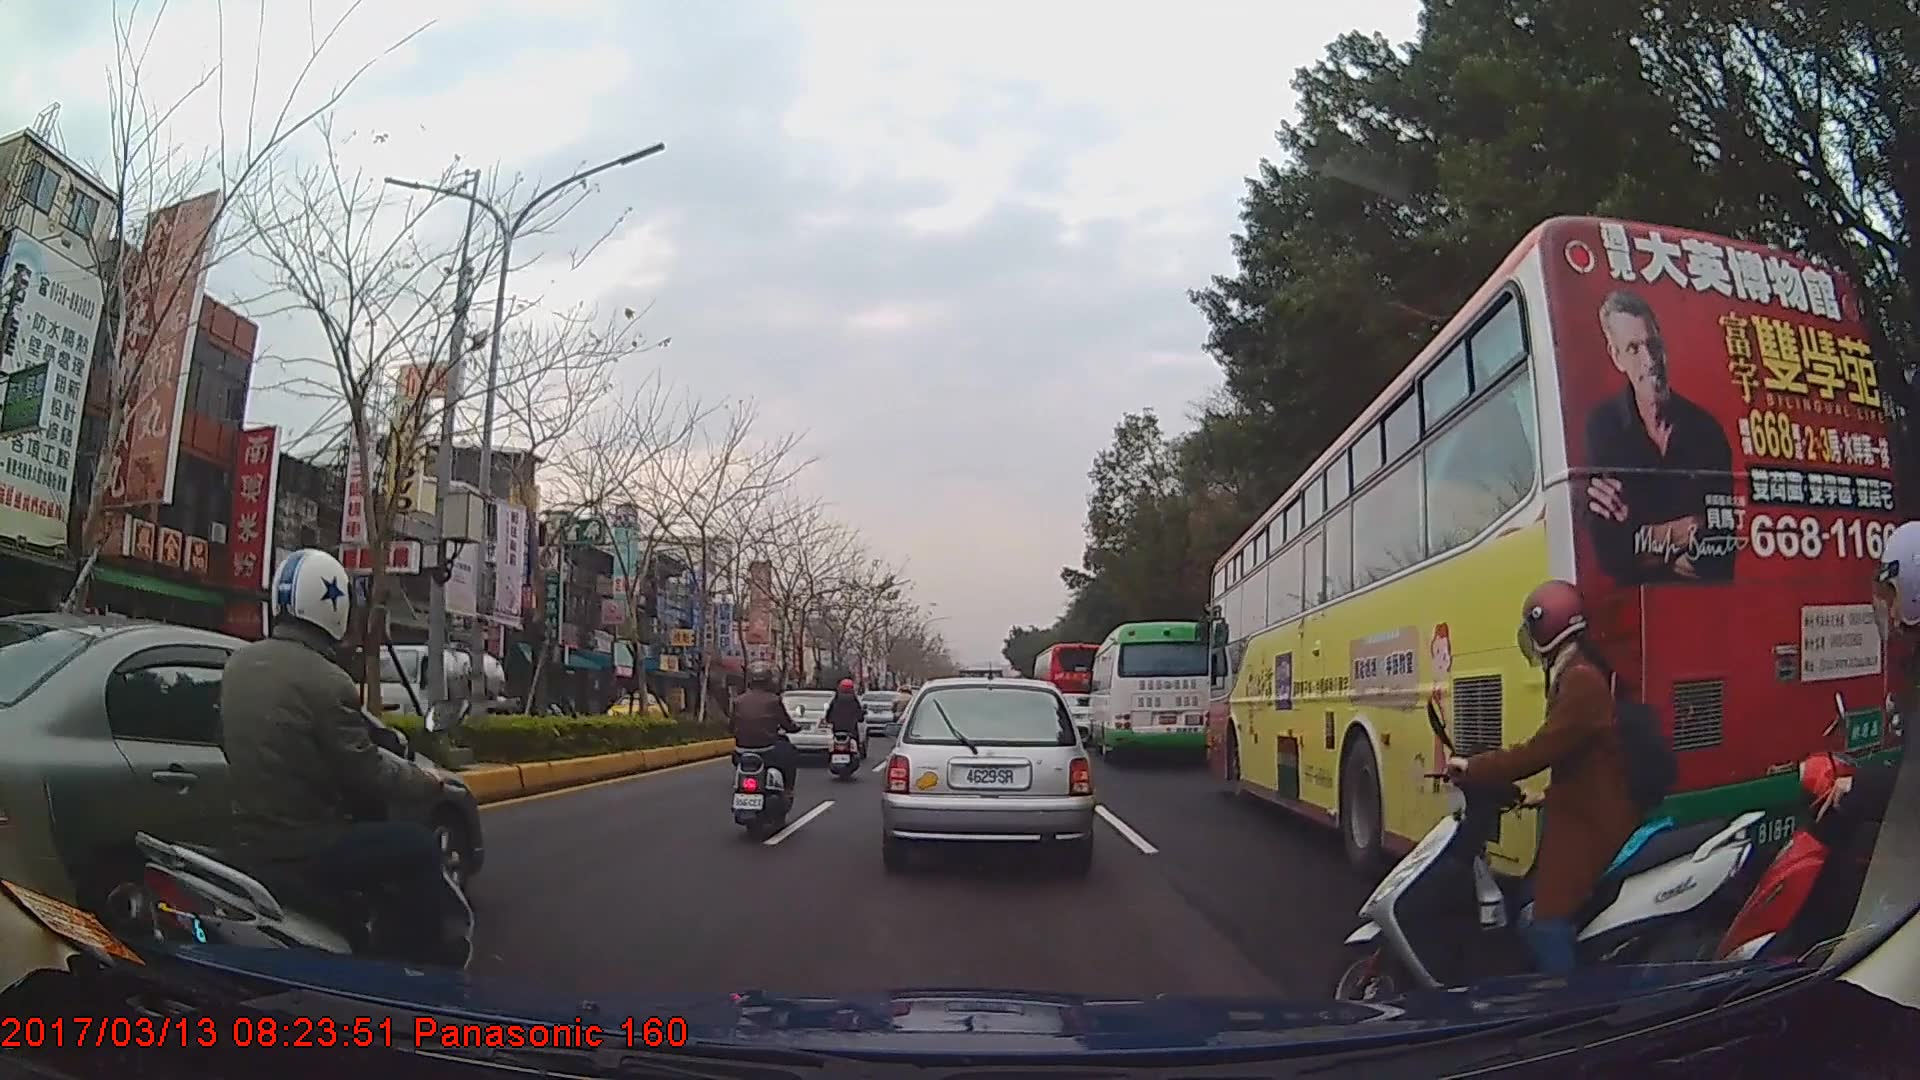rider: (1310, 580, 1766, 1037), (141, 549, 474, 1028), (1714, 526, 1920, 1060), (721, 659, 801, 843), (826, 677, 868, 784), (891, 684, 916, 737)
vehicle: (1208, 212, 1901, 891), (0, 604, 481, 965), (884, 672, 1091, 869), (323, 643, 524, 757), (1088, 619, 1214, 764), (765, 688, 866, 768), (1029, 638, 1106, 733), (598, 688, 670, 733)
